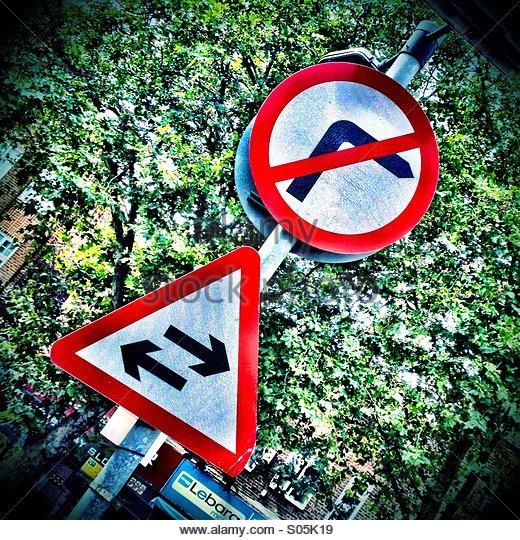no_right_turn: (247, 60, 439, 255)
